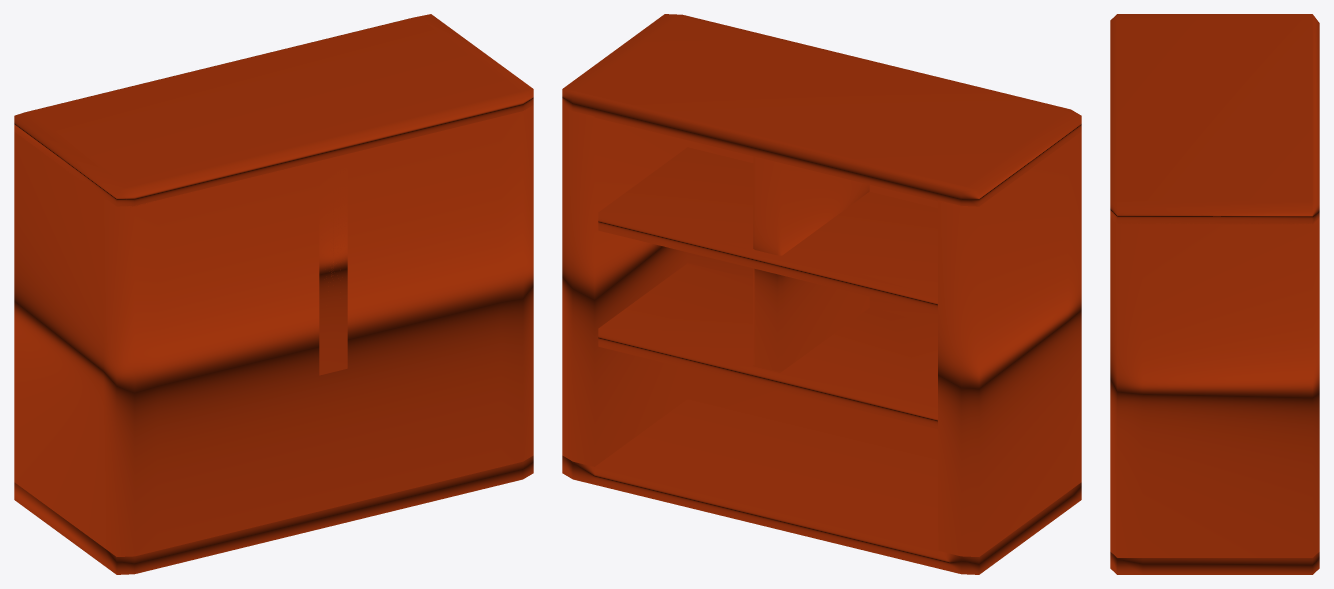
The model's file is estanteria.glb.
3 renders of one model, left to right at view 1: azimuth 30°, elevation 25°; view 2: azimuth 150°, elevation 25°; view 3: azimuth 270°, elevation 25°, orthographic. The views are drawn at different scales.
Parts seen in each view (by area): view 1: Cube.003; view 2: Cube.003; view 3: Cube.003.
Boxes of the visible parts, <box> form: Cube.003: <box>14,14,533,574</box>; Cube.003: <box>562,14,1081,574</box>; Cube.003: <box>1110,14,1319,574</box>.
Size of the model in its own units: 6.15 by 5.43 by 2.8.
